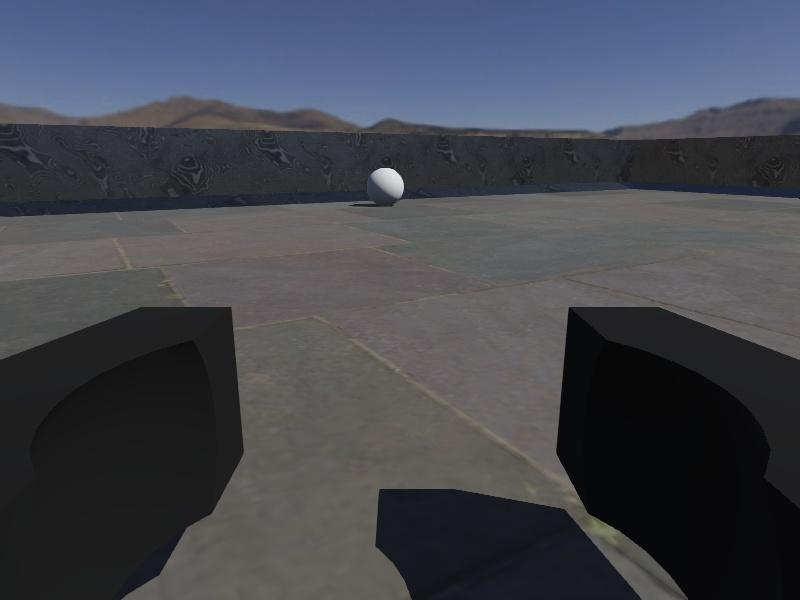white ball: (365, 168, 405, 207)
